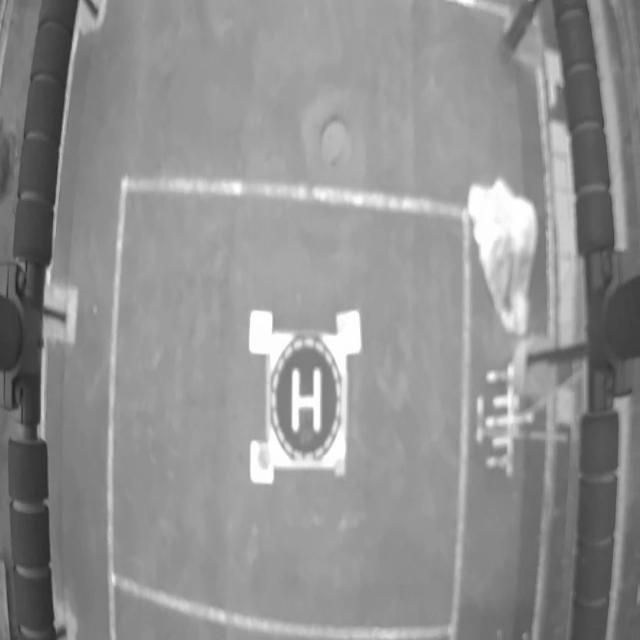Helipad: (292, 368, 321, 432)
